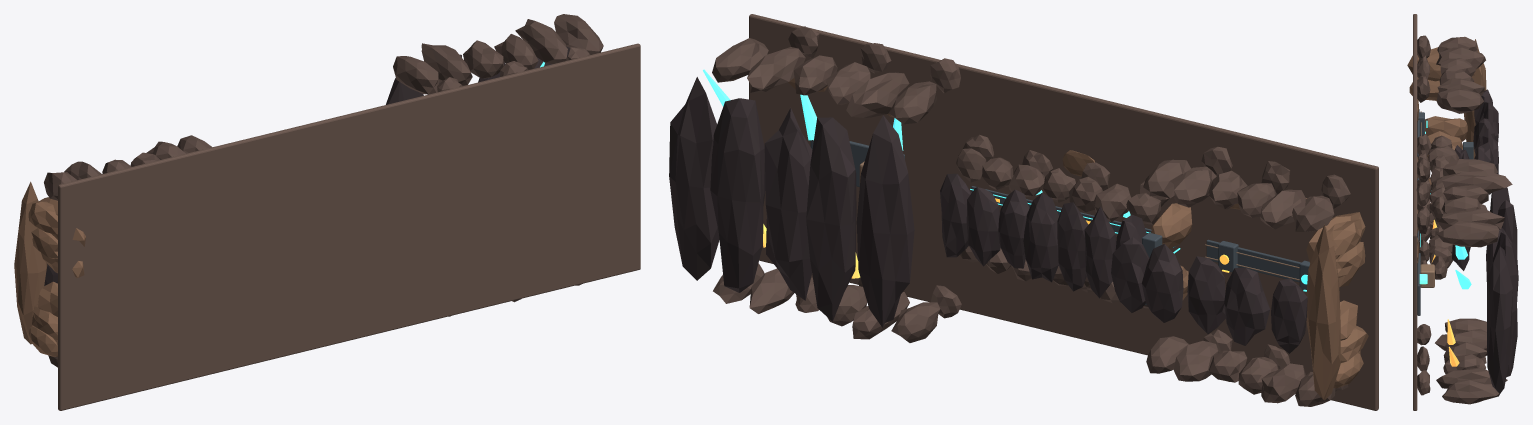
File: resonance_cave_vertical_slice_v1.glb
The picture shows the model from 3 angles, left to right: view 1: azimuth 30°, elevation 25°; view 2: azimuth 150°, elevation 25°; view 3: azimuth 270°, elevation 25°; orthographic projection. The views are drawn at different scales.
Parts seen in each view (by area): view 1: CaveWalkableFloor, EntranceArchTop, Chamber02_WallNorth_04, Chamber02_WallNorth_01, Chamber02_WallNorth_00, Chamber02_WallNorth_05, Chamber02_WallNorth_02, Chamber02_WallNorth_03, EntranceArch_3, EntranceArch_1, EntranceArch_2, EntranceArch_0; view 2: CaveWalkableFloor, Chamber02_Roof_0, Chamber02_Roof_3, Chamber02_Roof_1, Chamber02_Roof_4, Chamber02_Roof_2, EntranceArchTop, Chamber01_RoofRib_1, Tunnel_Roof_3, Chamber01_RoofRib_3, Chamber01_RoofRib_2, Chamber01_RoofRib_0 (+48 smaller); view 3: Chamber02_Roof_4, CaveWalkableFloor, Chamber02_WallNorth_05, Chamber02_Roof_3, Chamber02_WallNorth_01, Chamber02_WallSouth_05, Chamber01_WallNorth_05, Chamber02_WallNorth_04, Chamber01_Back_1, Chamber02_WallSouth_04, Chamber02_Roof_1, Chamber02_WallNorth_00 (+52 smaller).
Part boxes in pixels (bbox=[...]): CaveWalkableFloor: bbox=[58, 43, 640, 410]; EntranceArchTop: bbox=[14, 181, 47, 344]; Chamber02_WallNorth_04: bbox=[515, 19, 567, 63]; Chamber02_WallNorth_01: bbox=[421, 43, 472, 85]; Chamber02_WallNorth_00: bbox=[393, 56, 439, 94]; Chamber02_WallNorth_05: bbox=[554, 14, 603, 54]; Chamber02_WallNorth_02: bbox=[463, 40, 503, 78]; Chamber02_WallNorth_03: bbox=[494, 34, 538, 70]; EntranceArch_3: bbox=[28, 201, 57, 234]; EntranceArch_1: bbox=[32, 304, 57, 339]; EntranceArch_2: bbox=[31, 228, 57, 258]; EntranceArch_0: bbox=[29, 325, 57, 356]; CaveWalkableFloor: bbox=[749, 14, 1378, 410]; Chamber02_Roof_0: bbox=[856, 115, 914, 327]; Chamber02_Roof_3: bbox=[710, 98, 765, 292]; Chamber02_Roof_1: bbox=[806, 117, 856, 321]; Chamber02_Roof_4: bbox=[669, 77, 719, 280]; Chamber02_Roof_2: bbox=[764, 107, 812, 300]; EntranceArchTop: bbox=[1306, 224, 1340, 400]; Chamber01_RoofRib_1: bbox=[1224, 268, 1270, 345]; Tunnel_Roof_3: bbox=[1023, 192, 1058, 282]; Chamber01_RoofRib_3: bbox=[1141, 244, 1183, 322]; Chamber01_RoofRib_2: bbox=[1187, 256, 1225, 334]; Chamber01_RoofRib_0: bbox=[1271, 278, 1307, 353]; Chamber02_Roof_4: bbox=[1487, 246, 1512, 393]; CaveWalkableFloor: bbox=[1413, 14, 1417, 410]; Chamber02_WallNorth_05: bbox=[1437, 220, 1499, 247]; Chamber02_Roof_3: bbox=[1492, 232, 1517, 376]; Chamber02_WallNorth_01: bbox=[1442, 171, 1512, 193]; Chamber02_WallSouth_05: bbox=[1442, 380, 1499, 404]; Chamber01_WallNorth_05: bbox=[1436, 88, 1483, 113]; Chamber02_WallNorth_04: bbox=[1437, 208, 1504, 229]; Chamber01_Back_1: bbox=[1420, 116, 1467, 140]; Chamber02_WallSouth_04: bbox=[1436, 367, 1507, 388]; Chamber02_Roof_1: bbox=[1497, 200, 1518, 295]; Chamber02_WallNorth_00: bbox=[1443, 159, 1497, 176].
Size of the model in its own units: 112 by 42.79 by 22.92.
